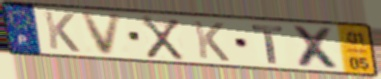K: (192, 19, 233, 64), (42, 10, 83, 54)
T: (249, 23, 285, 65)
V: (78, 11, 126, 57)
X: (290, 24, 346, 72), (138, 14, 186, 63)
